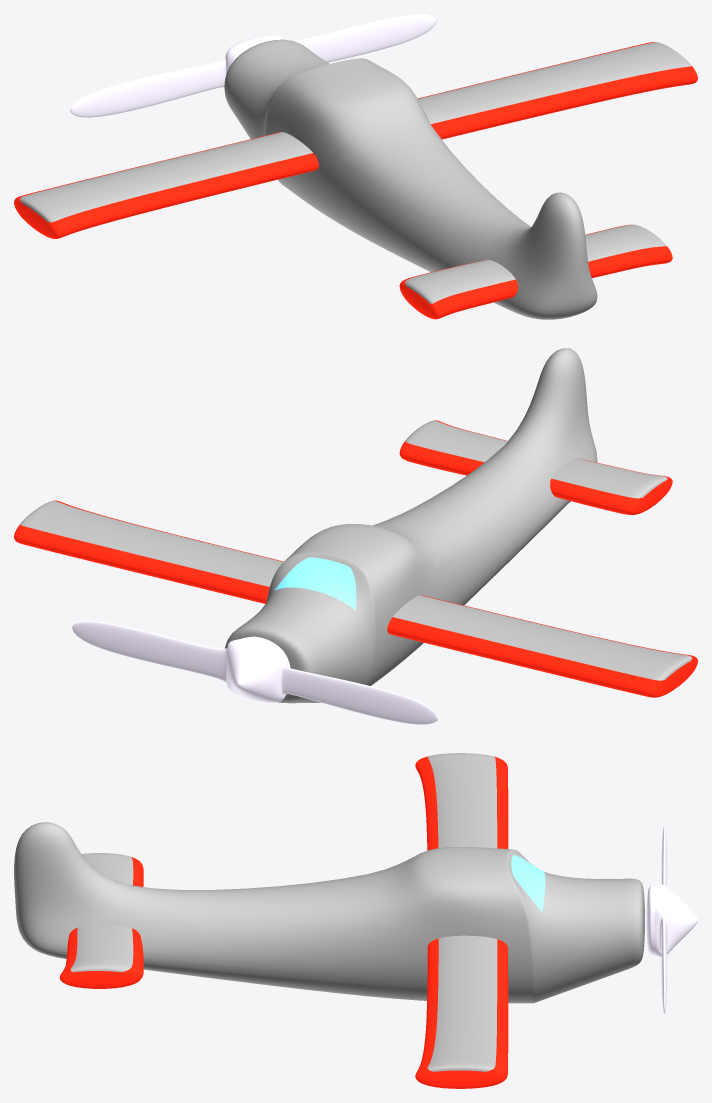
Rendered from SimplePlane.dae.
3 renders of one model, top to bottom at view 1: azimuth 30°, elevation 25°; view 2: azimuth 150°, elevation 25°; view 3: azimuth 270°, elevation 25°, orthographic.
Parts seen in each view (by area): view 1: Plane, Propeller; view 2: Plane, Propeller; view 3: Plane, Propeller.
Boxes of the visible parts, box(x1,y1,x2,y2) form: Plane: box(14, 39, 697, 319); Propeller: box(70, 14, 436, 117); Plane: box(14, 348, 697, 703); Propeller: box(72, 621, 438, 724); Plane: box(14, 753, 644, 1088); Propeller: box(646, 826, 697, 1013).
Bounding box in the file's own units: 1.75 × 1.6 × 0.4479.
